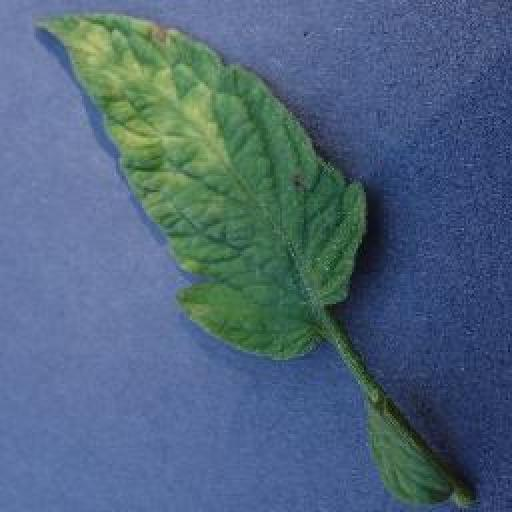disease_tomato: (38, 13, 373, 360)
